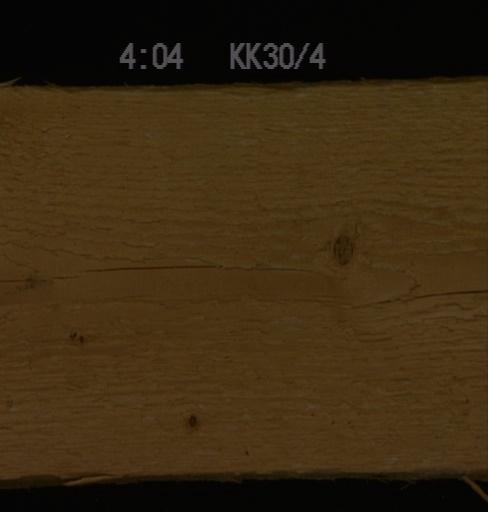small_knot: (63, 323, 87, 349), (182, 409, 201, 431)
split: (0, 259, 329, 286), (347, 285, 486, 314), (327, 227, 358, 268)
